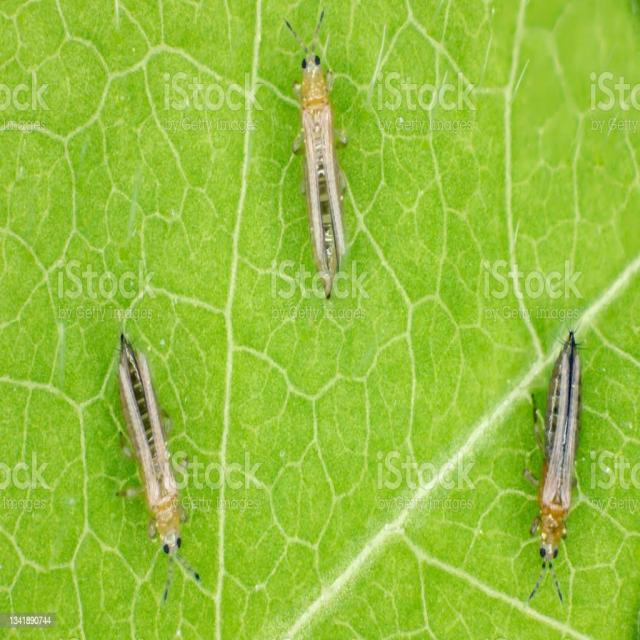Thrip-Adult-: (274, 2, 374, 320), (101, 328, 206, 610), (518, 307, 598, 607)
